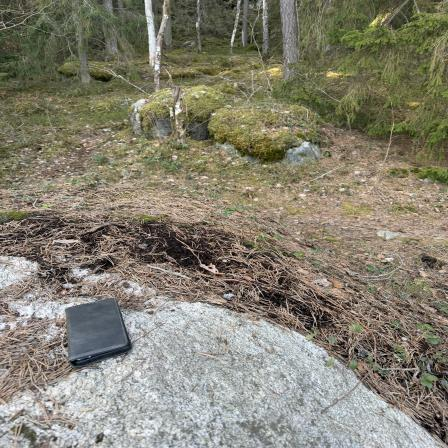phone: (62, 300, 134, 363)
